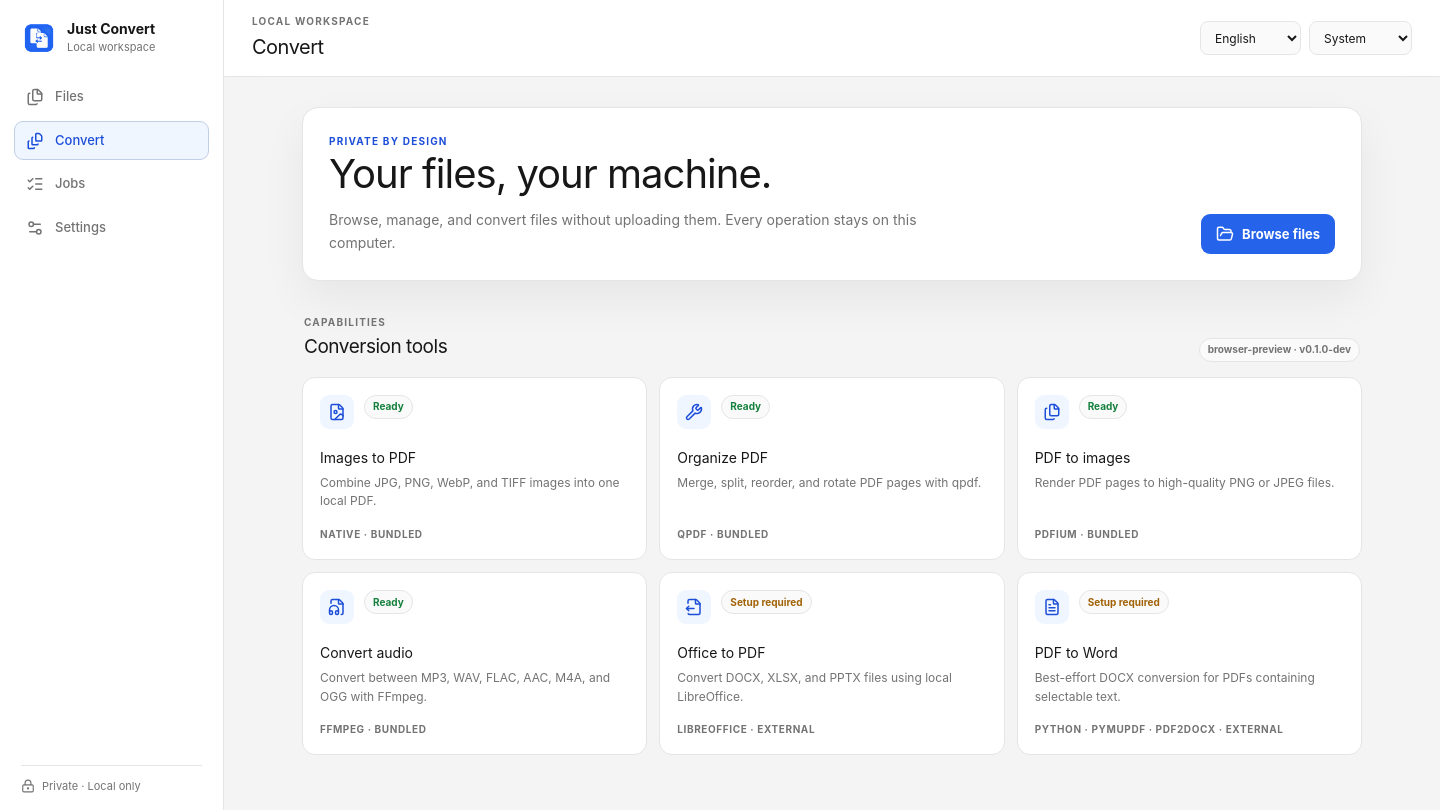
Scenario: App foundation › keeps local folder selection disabled in a browser preview
Step 1. Click the button "Files" → (112, 97), box [14,77,209,117]
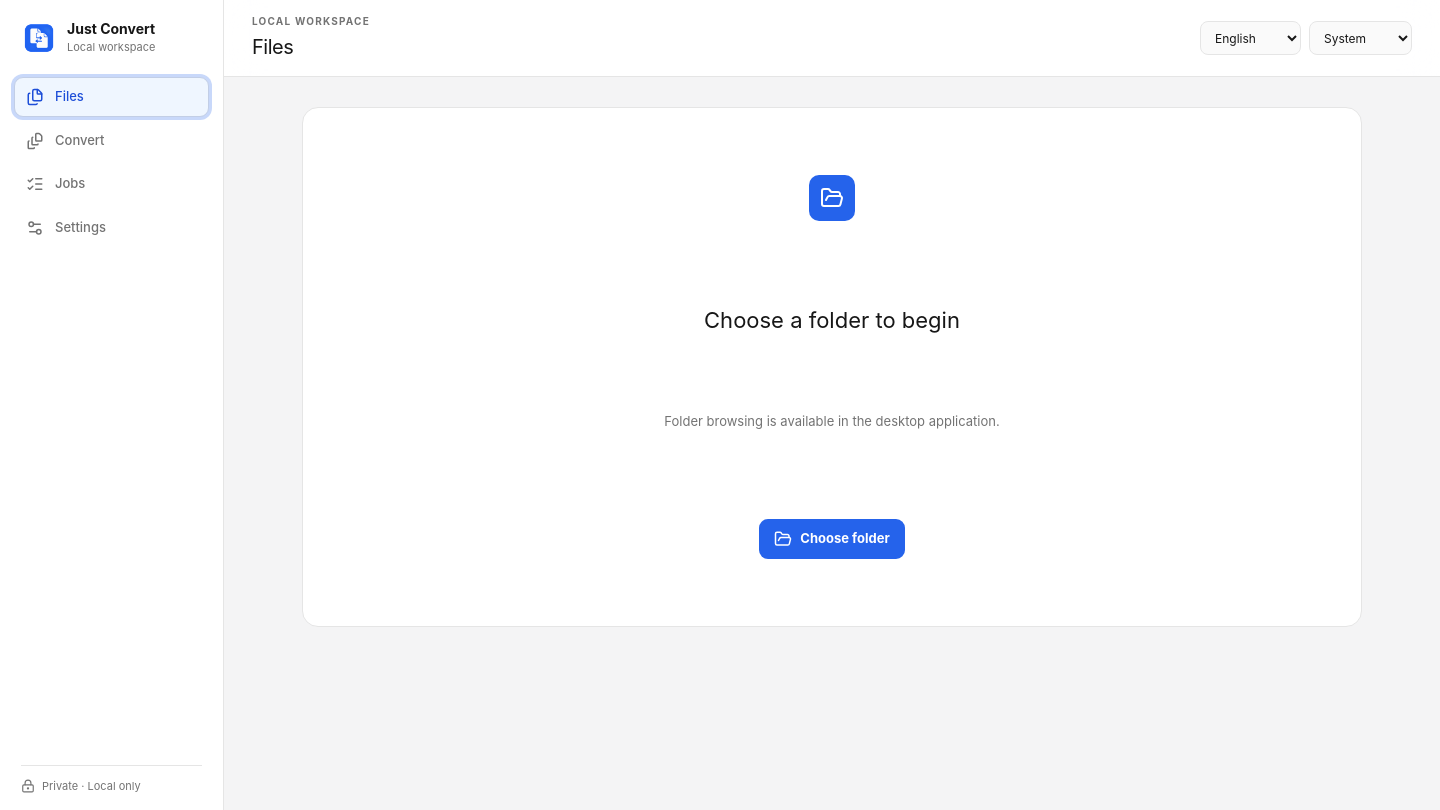
Check: the heading "Choose a folder to begin" is shown, box [704,304,960,337]
Check: the button "Choose folder" is disabled, box [759,519,905,559]
